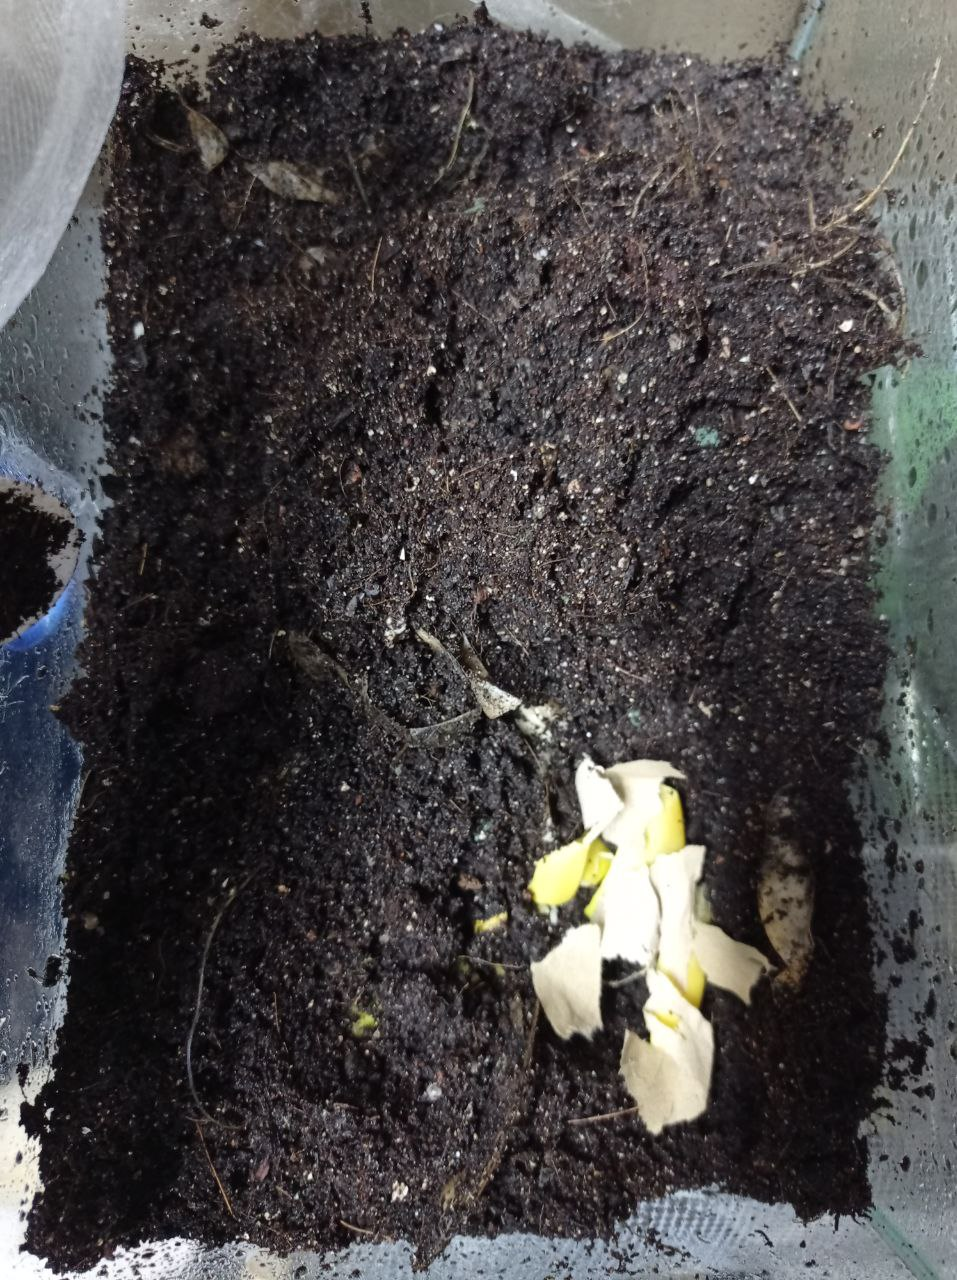banana peel: (524, 736, 760, 1133)
unknown browns: (167, 89, 351, 254)
